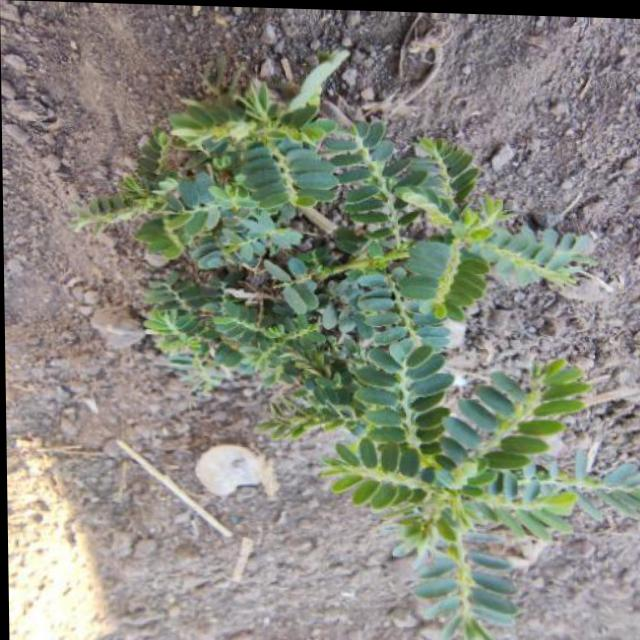weed: (100, 77, 594, 640)
